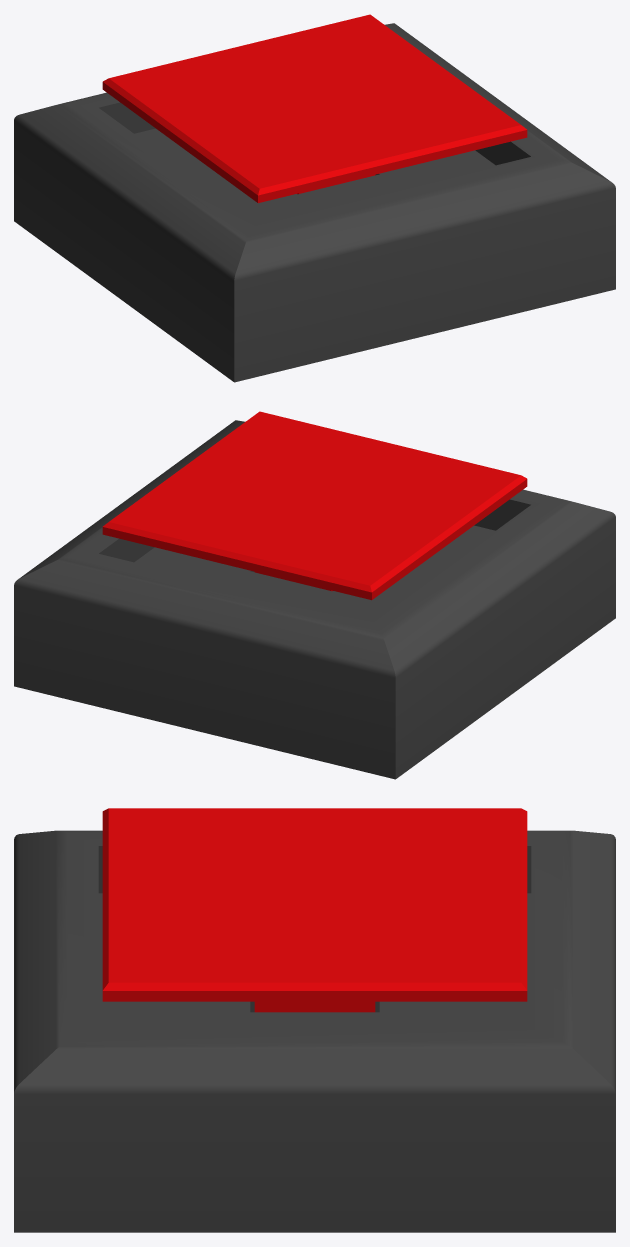
Rendered from physicsbutton.glb.
The picture shows the model from 3 angles, top to bottom: view 1: azimuth 30°, elevation 25°; view 2: azimuth 150°, elevation 25°; view 3: azimuth 270°, elevation 25°; orthographic projection. The views are drawn at different scales.
Parts seen in each view (by area): view 1: ButtonCase, Button; view 2: ButtonCase, Button; view 3: ButtonCase, Button.
Boxes of the visible parts, bbox=[...] form: ButtonCase: bbox=[14, 23, 615, 382]; Button: bbox=[102, 14, 527, 203]; ButtonCase: bbox=[14, 420, 615, 779]; Button: bbox=[102, 411, 527, 600]; ButtonCase: bbox=[14, 830, 615, 1232]; Button: bbox=[102, 808, 527, 1012].
Bounding box in the file's own units: 1.38 × 0.5328 × 1.38.
